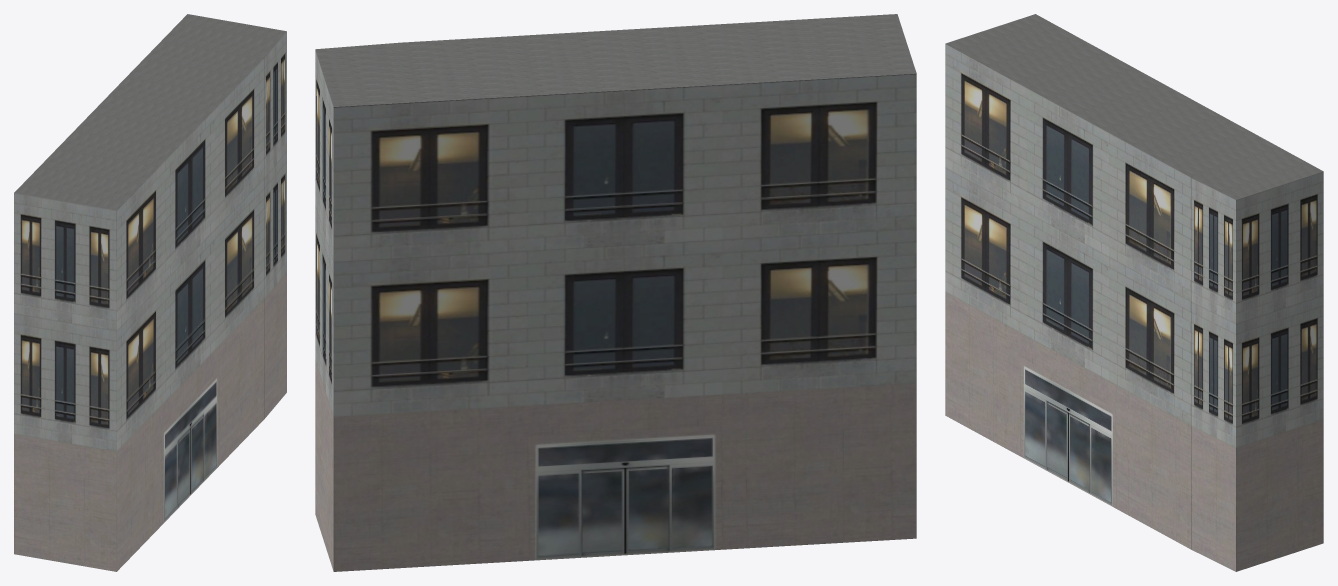
3 renders of one model, left to right at view 1: azimuth 30°, elevation 25°; view 2: azimuth 150°, elevation 25°; view 3: azimuth 270°, elevation 25°, orthographic. The views are drawn at different scales.
Visible parts, largest first — view 1: BuildingMaster_0000193649494462112300000000_0, BuildingMaster_0000193649494462112300000000_1; view 2: BuildingMaster_0000193649494462112300000000_0, BuildingMaster_0000193649494462112300000000_1; view 3: BuildingMaster_0000193649494462112300000000_0, BuildingMaster_0000193649494462112300000000_1.
Boxes of the visible parts, box(x1,y1,x2,y2) form: BuildingMaster_0000193649494462112300000000_0: box(14, 31, 286, 571); BuildingMaster_0000193649494462112300000000_1: box(14, 14, 286, 210); BuildingMaster_0000193649494462112300000000_0: box(315, 50, 916, 571); BuildingMaster_0000193649494462112300000000_1: box(315, 14, 916, 106); BuildingMaster_0000193649494462112300000000_0: box(945, 44, 1323, 571); BuildingMaster_0000193649494462112300000000_1: box(945, 14, 1323, 199).
Bounding box in the file's own units: 11.26 × 10.5 × 9.68.
Materials: 2 (2 with a texture image).
